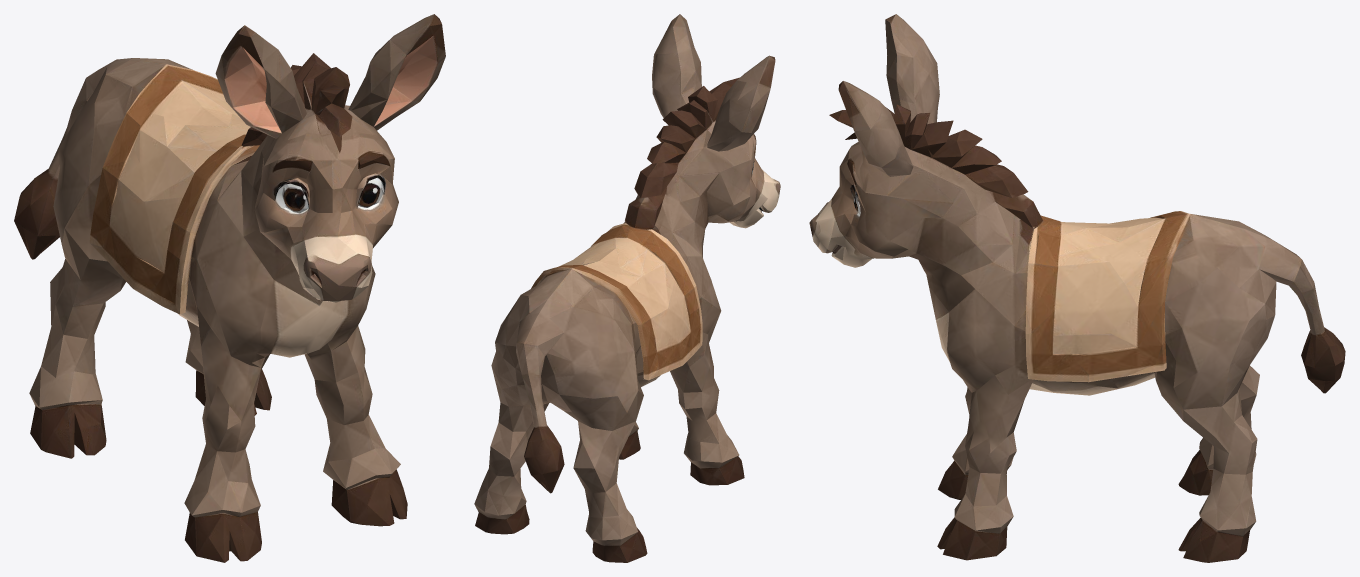
File: donkey.glb
3 renders of one model, left to right at view 1: azimuth 30°, elevation 25°; view 2: azimuth 150°, elevation 25°; view 3: azimuth 270°, elevation 25°, orthographic. The views are drawn at different scales.
Bounding box in the file's own units: 0.7753 × 1.82 × 1.9.
1 material, 1 textured.
